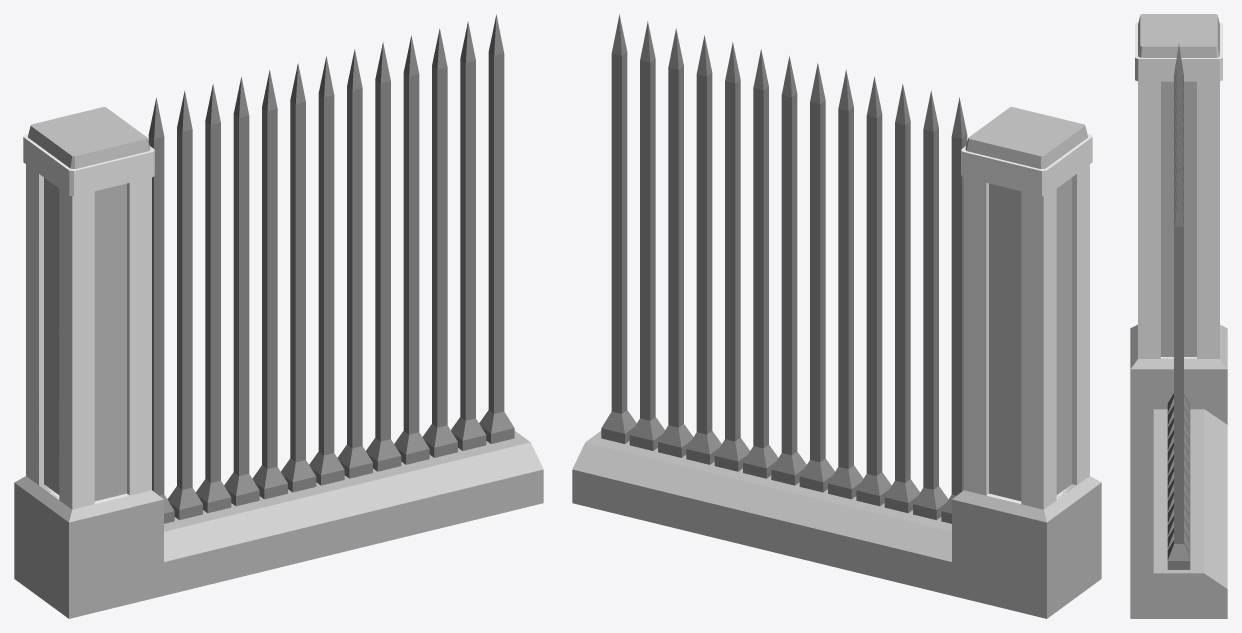
The model's file is BigFence_02.fbx.
3 views of the same model, side by side, from view 1: azimuth 30°, elevation 25°; view 2: azimuth 150°, elevation 25°; view 3: azimuth 270°, elevation 25° (orthographic). The views are drawn at different scales.
Parts seen in each view (by area): view 1: BigFence_02; view 2: BigFence_02; view 3: BigFence_02.
Boxes of the visible parts, <box> form: BigFence_02: <box>14,14,543,618</box>; BigFence_02: <box>572,14,1101,618</box>; BigFence_02: <box>1130,14,1227,618</box>.
Size of the model in its own units: 305 by 291 by 61.03.
